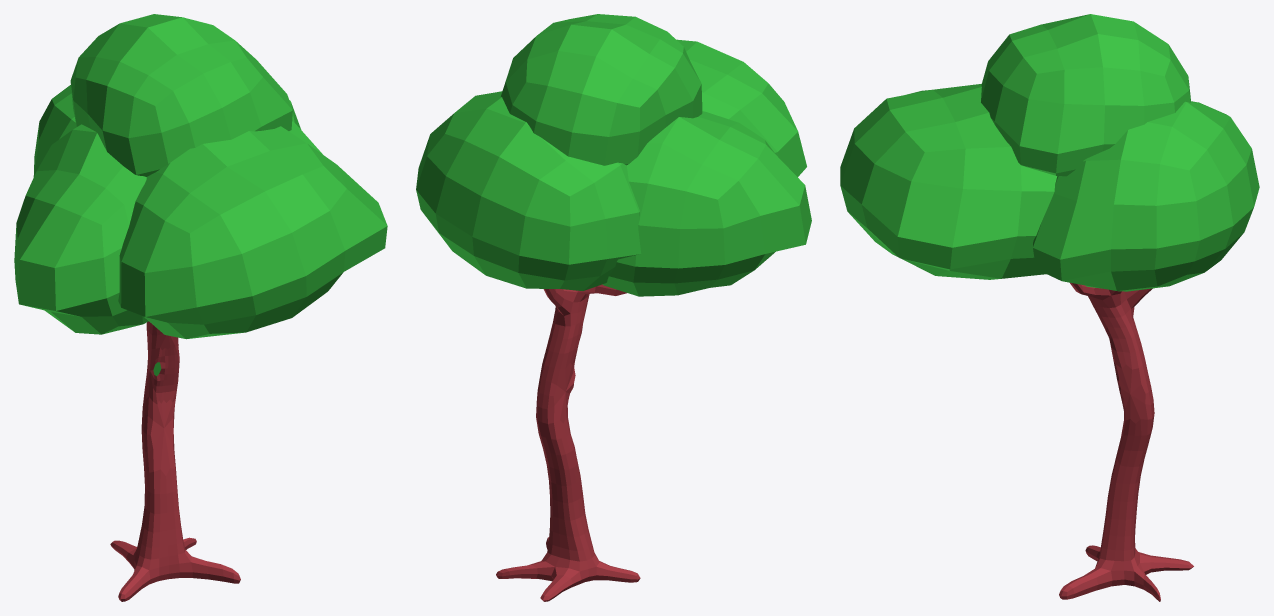
Rendered from Tree.fbx.
The picture shows the model from 3 angles, left to right: view 1: azimuth 30°, elevation 25°; view 2: azimuth 150°, elevation 25°; view 3: azimuth 270°, elevation 25°; orthographic projection. The views are drawn at different scales.
Parts seen in each view (by area): view 1: tree(leavespart).003; view 2: tree(leavespart).003; view 3: tree(leavespart).003.
Boxes of the visible parts, <box> form: tree(leavespart).003: <box>14,14,387,601</box>; tree(leavespart).003: <box>416,14,811,601</box>; tree(leavespart).003: <box>840,14,1259,601</box>.
Size of the model in its own units: 1539 by 2489 by 1710.
